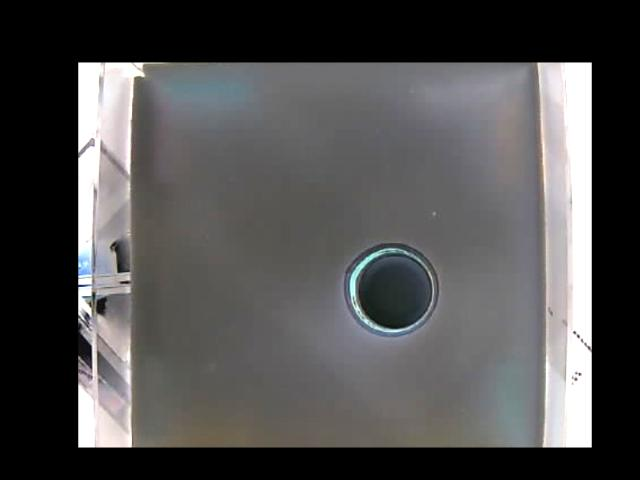Cup: (343, 237, 440, 335)
